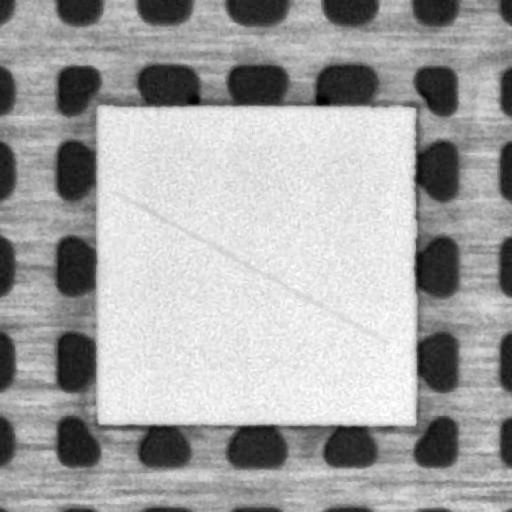DIE_CRACK: (115, 192, 386, 343)
